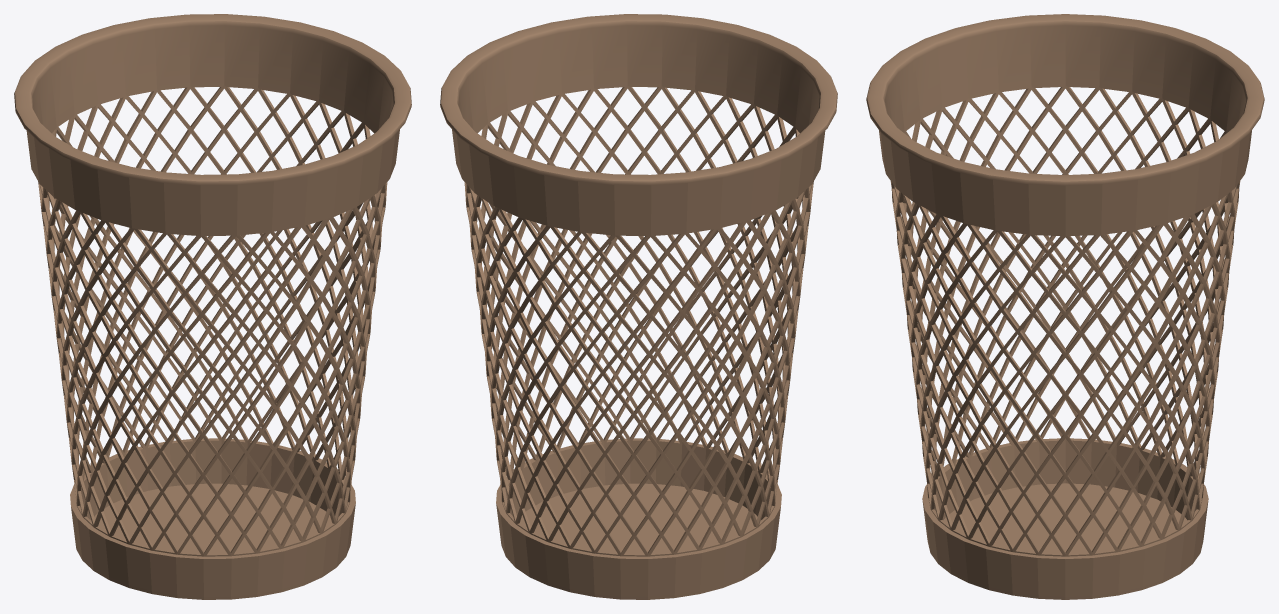
File: Yellow-New.glb
The picture shows the model from 3 angles, left to right: view 1: azimuth 30°, elevation 25°; view 2: azimuth 150°, elevation 25°; view 3: azimuth 270°, elevation 25°; orthographic projection.
Visible parts, largest first — view 1: TrashBin1; view 2: TrashBin1; view 3: TrashBin1.
Part boxes in pixels (x1,y1,x2,y2): TrashBin1: (14,14,411,599); TrashBin1: (440,14,837,599); TrashBin1: (866,14,1264,599).
Bounding box in the file's own units: 327 × 402 × 327.
